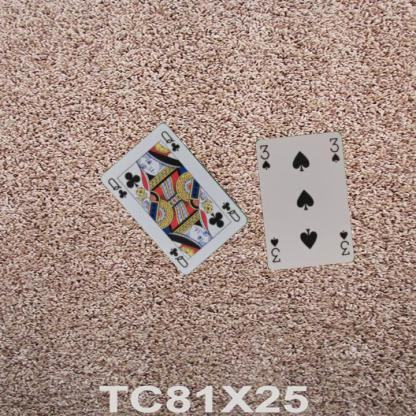3s: (257, 142, 272, 171), (337, 227, 351, 257)
Qc: (105, 175, 129, 200), (219, 199, 242, 223)
